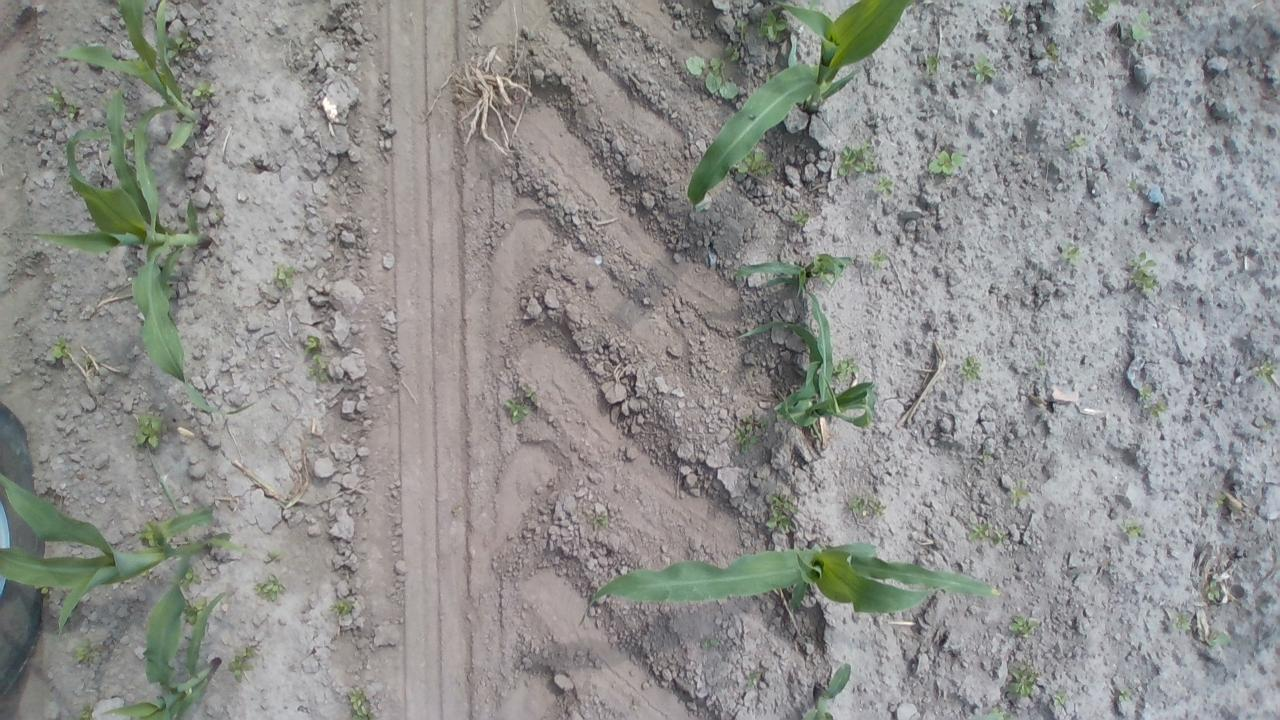Maize: (29, 88, 211, 380), (688, 0, 911, 211), (0, 467, 223, 638), (577, 542, 997, 628), (100, 535, 256, 720), (56, 0, 208, 151), (734, 276, 878, 432), (800, 662, 1021, 720), (734, 253, 854, 299)
Weeds: (688, 40, 738, 102), (1124, 250, 1160, 294), (836, 144, 880, 176), (734, 413, 770, 452), (303, 334, 330, 384), (133, 413, 169, 450), (765, 494, 800, 532), (731, 147, 776, 176), (1006, 660, 1040, 698), (754, 9, 790, 43), (504, 391, 537, 424), (928, 150, 968, 177), (967, 518, 1005, 545), (253, 573, 288, 602), (228, 646, 256, 680), (848, 493, 887, 517), (347, 687, 375, 720), (165, 34, 198, 61), (1007, 614, 1041, 640), (1084, 0, 1121, 22), (969, 54, 994, 83), (832, 358, 859, 384), (184, 595, 207, 625), (1009, 478, 1031, 509), (49, 334, 74, 361), (70, 640, 94, 668), (273, 262, 297, 289), (959, 356, 983, 382), (47, 79, 64, 114), (1254, 358, 1276, 384), (1132, 14, 1152, 42), (136, 518, 156, 546), (329, 598, 360, 616), (191, 78, 214, 102), (179, 568, 202, 592), (1168, 611, 1194, 632), (1120, 518, 1146, 538), (870, 247, 889, 273), (924, 54, 942, 80), (1065, 133, 1089, 152), (1204, 630, 1232, 646), (873, 173, 894, 194), (1203, 578, 1223, 600), (585, 510, 608, 528), (1062, 245, 1080, 265), (998, 2, 1014, 20), (734, 15, 749, 34), (262, 548, 282, 562), (1152, 400, 1168, 417), (78, 703, 94, 720), (792, 209, 808, 225), (66, 102, 78, 121), (746, 670, 758, 688), (124, 127, 136, 145), (1046, 42, 1058, 60), (977, 450, 993, 463), (711, 0, 731, 10), (1118, 688, 1132, 702), (1139, 385, 1152, 400), (1054, 690, 1067, 705), (702, 638, 721, 648), (1214, 494, 1226, 507), (1000, 711, 1016, 720), (36, 584, 50, 594), (1262, 420, 1273, 432), (98, 96, 109, 108), (1126, 179, 1136, 192), (1032, 359, 1044, 369), (81, 354, 89, 368), (215, 210, 225, 218)
